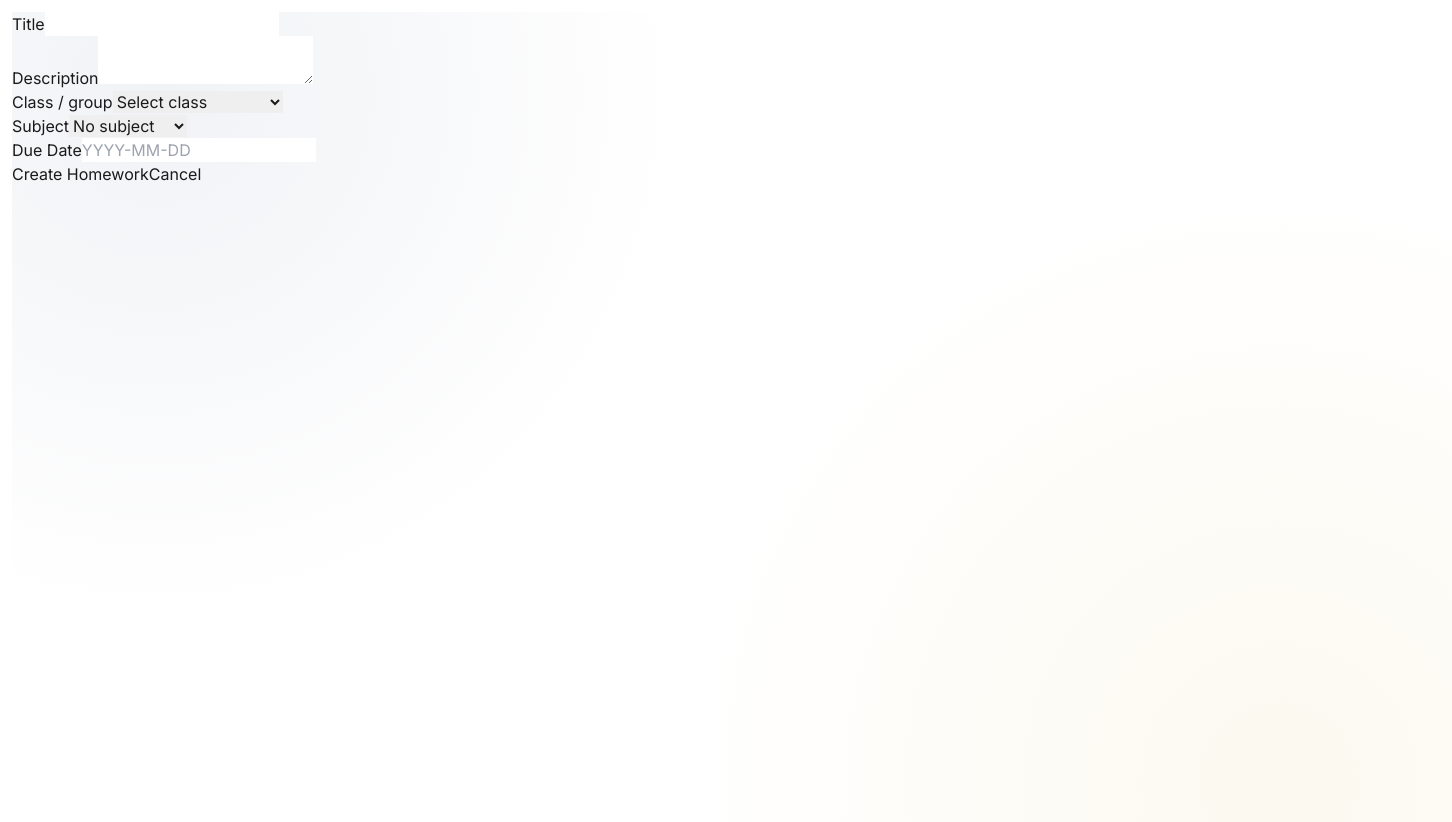
Test: HomeworkForm › shows server action errors without navigating away
Type "Temporary title" into the field labelled "Title" at x=162, y=24, box [45,12,279,36]
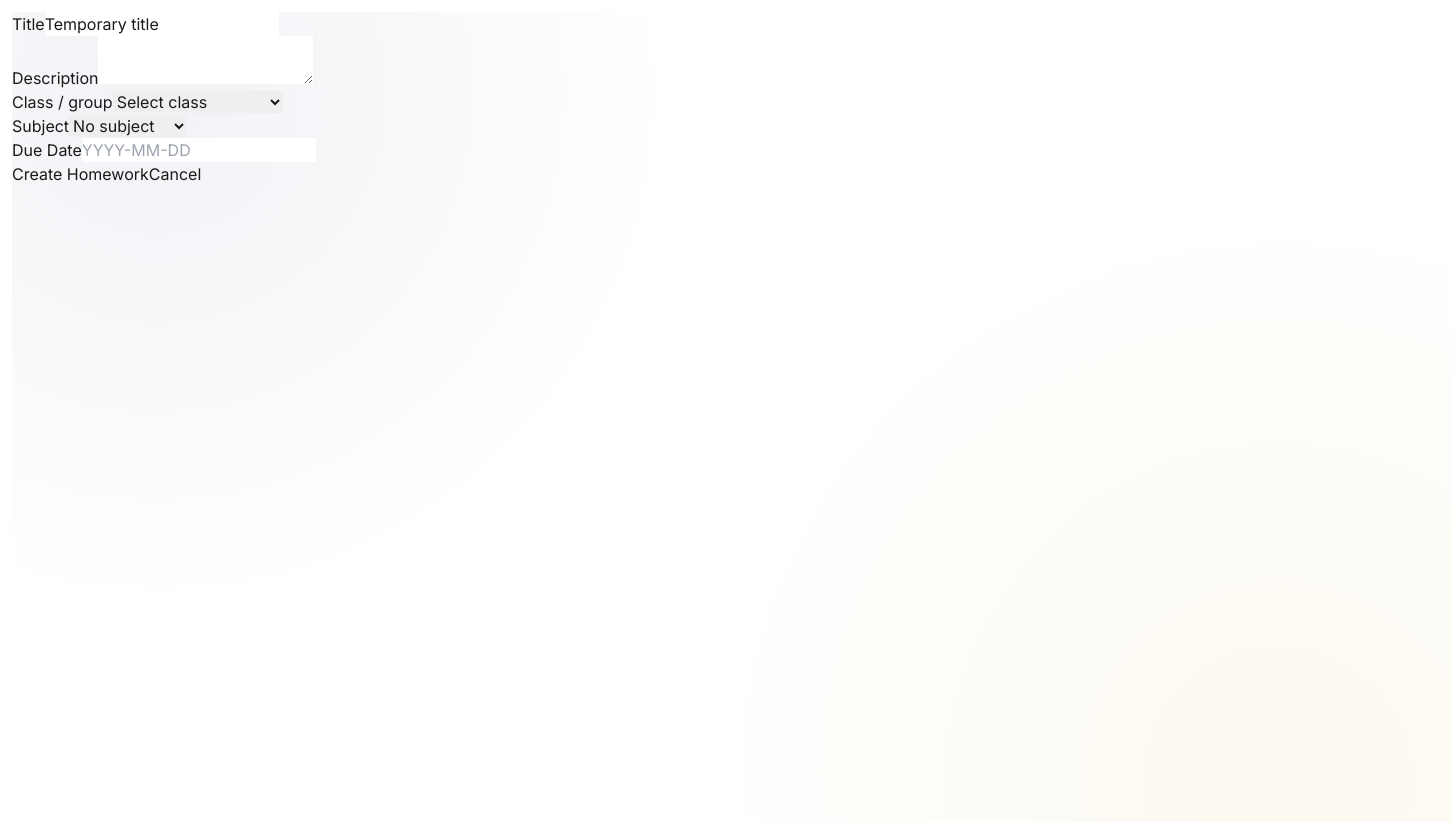
Select "IGCSE Mathematics" in the dropdown labelled "Class / group" at x=198, y=102, box [113,91,283,113]
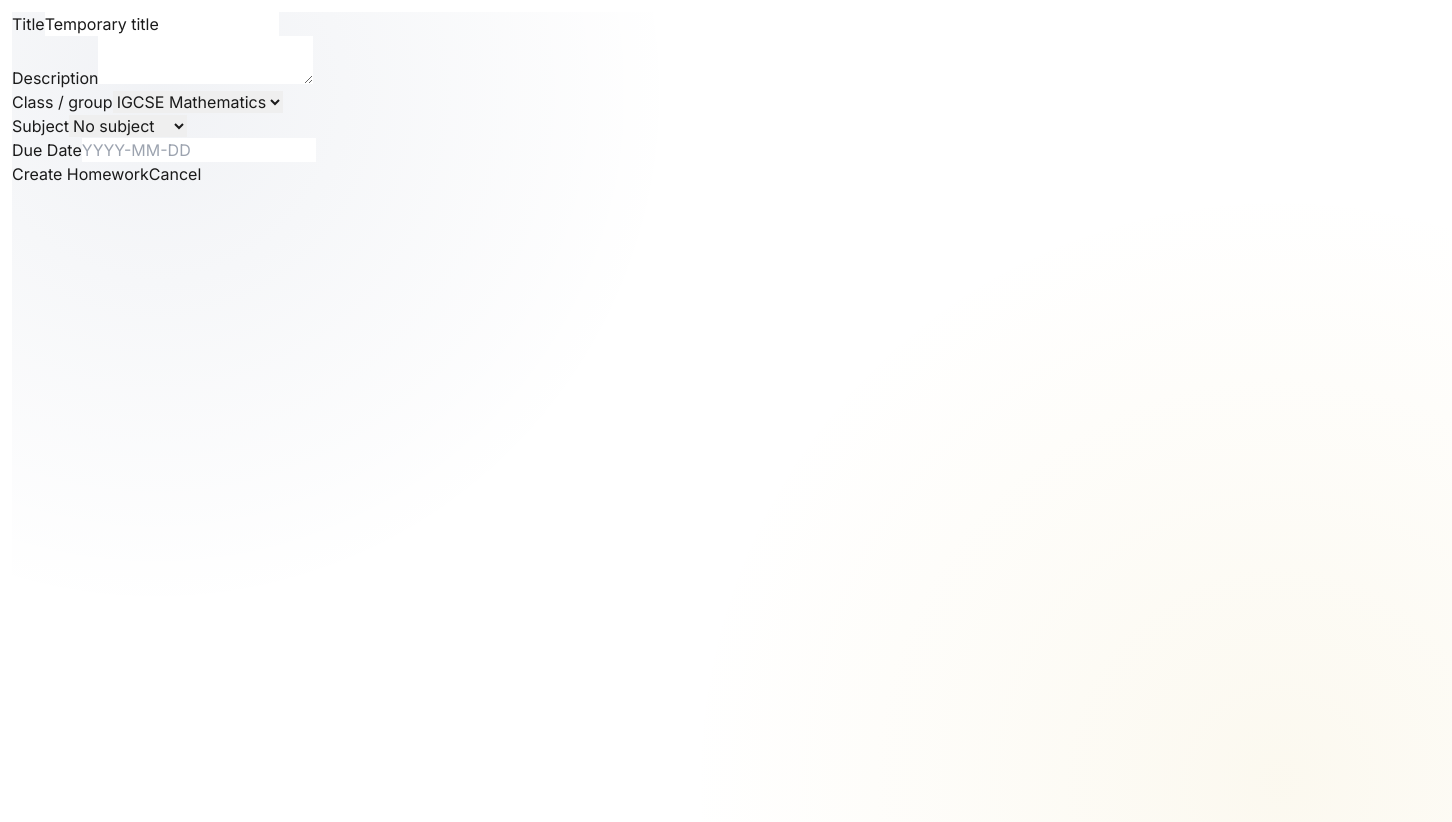
Type "2026-06-22" into the field labelled "Due Date" at x=199, y=150, box [82,138,316,162]
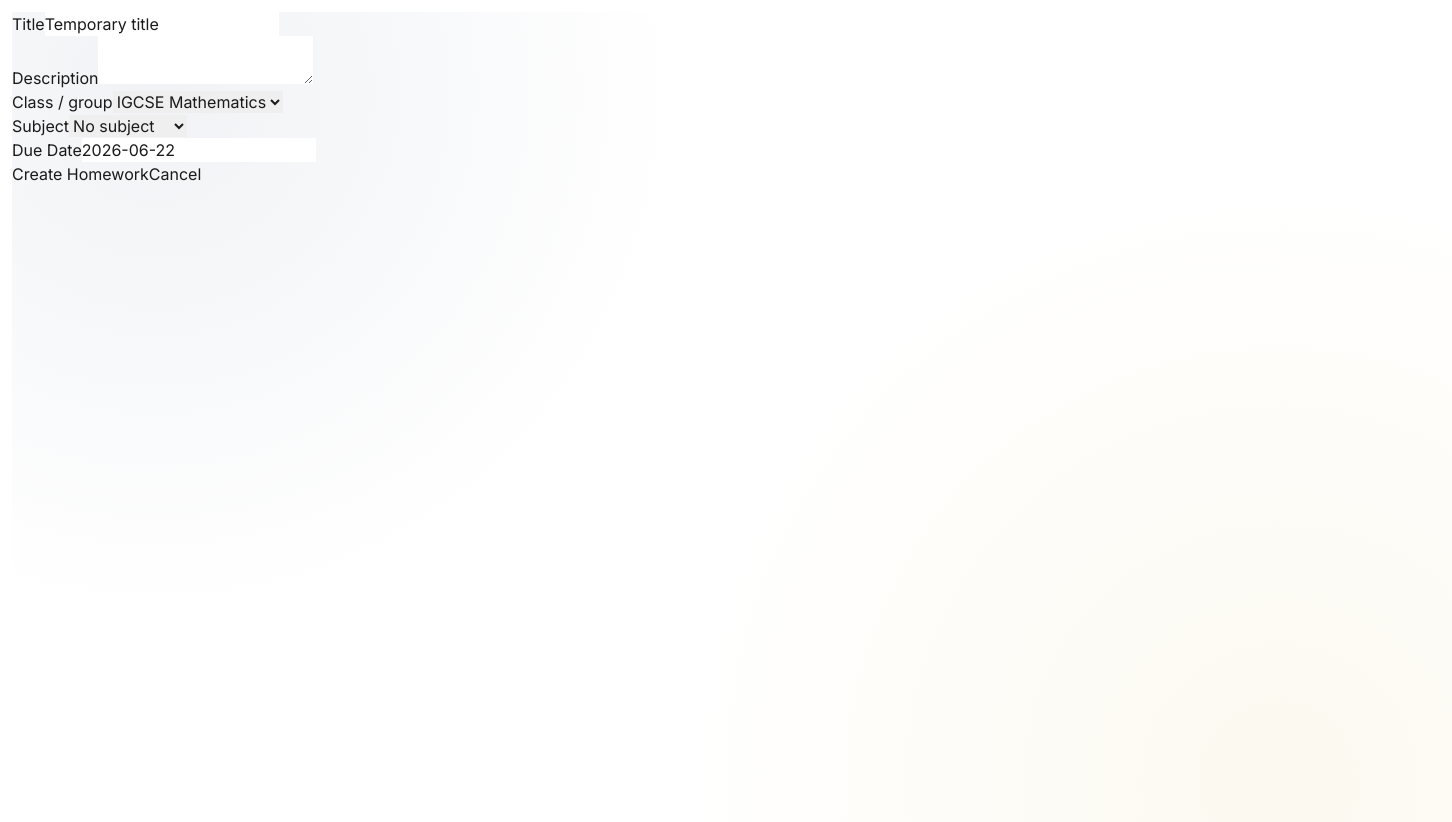
Click the button "Create Homework" at x=80, y=174, box [12,162,149,186]
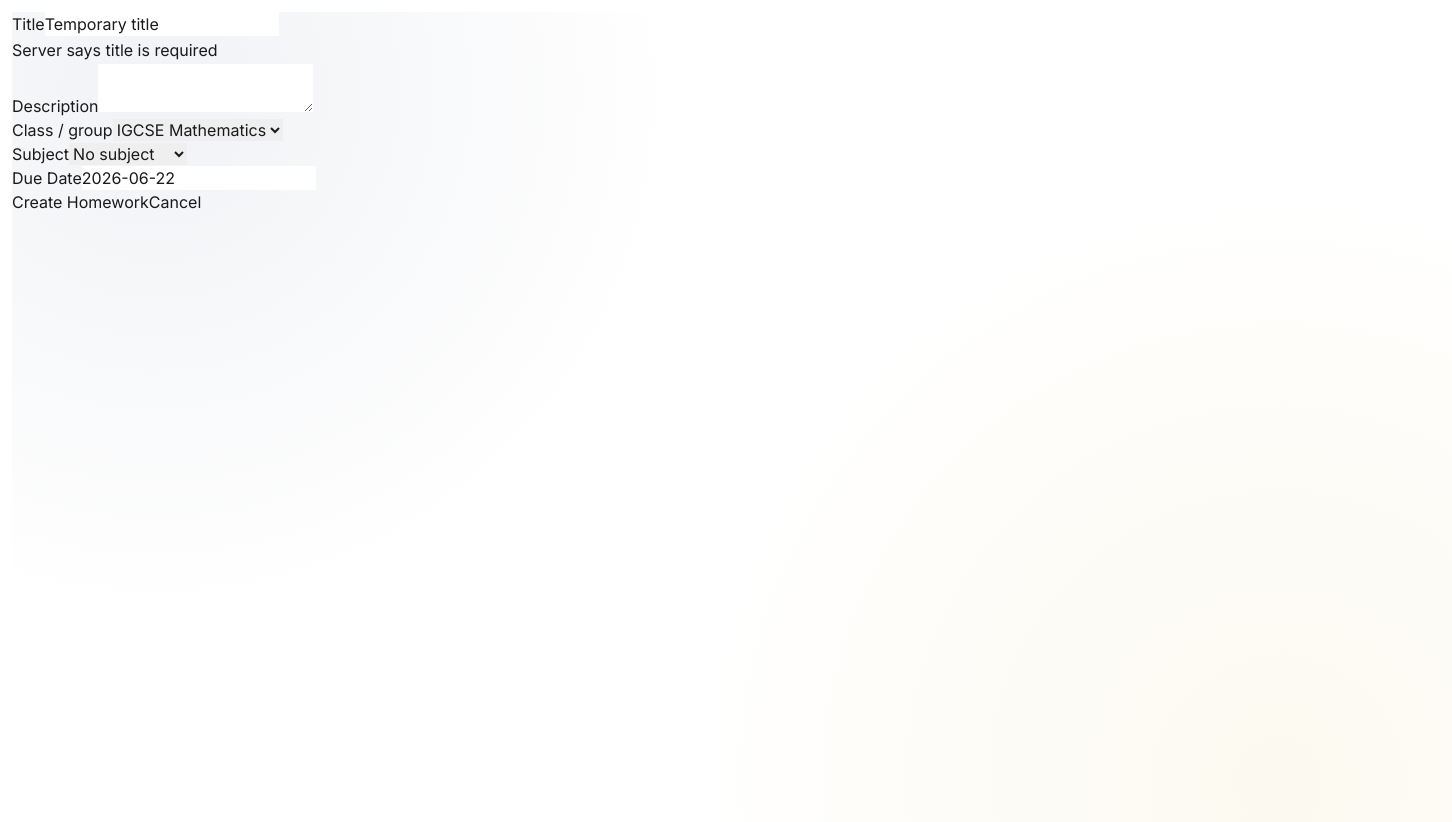
Now the text "Server says title is required" is shown, box [12,40,218,60]
